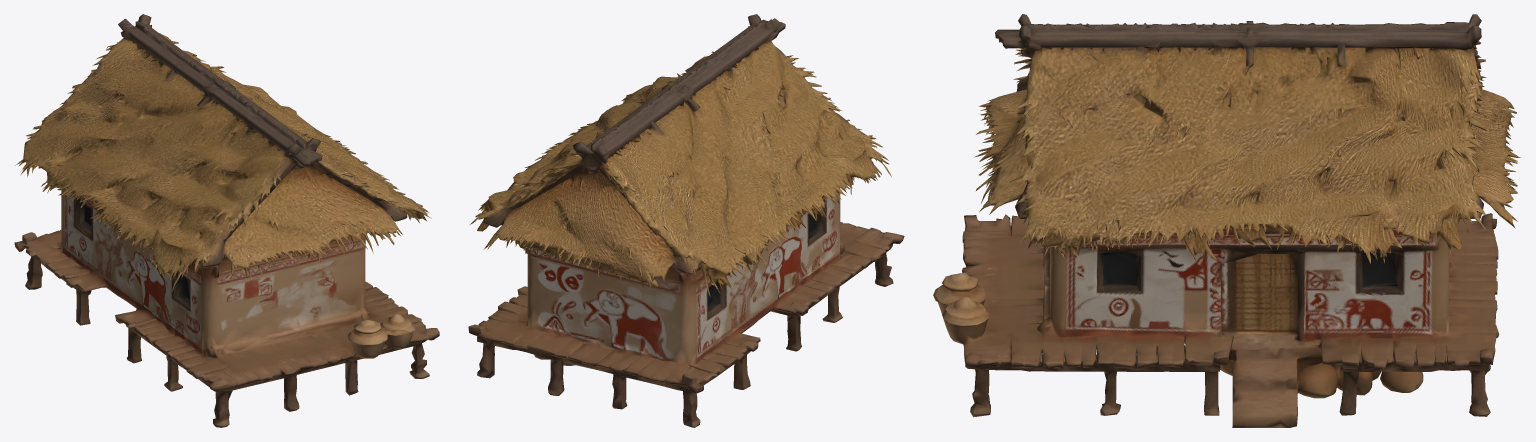
The model's file is tharu_house.glb.
3 renders of one model, left to right at view 1: azimuth 30°, elevation 25°; view 2: azimuth 150°, elevation 25°; view 3: azimuth 270°, elevation 25°, orthographic. The views are drawn at different scales.
Visible parts, largest first — view 1: tripo_node_f977dfb8-b639-40e6-8eda-6ae0d3593b82; view 2: tripo_node_f977dfb8-b639-40e6-8eda-6ae0d3593b82; view 3: tripo_node_f977dfb8-b639-40e6-8eda-6ae0d3593b82.
Boxes of the visible parts, left/top/right/bottom form: tripo_node_f977dfb8-b639-40e6-8eda-6ae0d3593b82: left=14, top=14, right=439, bottom=427; tripo_node_f977dfb8-b639-40e6-8eda-6ae0d3593b82: left=468, top=14, right=904, bottom=427; tripo_node_f977dfb8-b639-40e6-8eda-6ae0d3593b82: left=933, top=14, right=1520, bottom=427.
Size of the model in its own units: 2.78 by 2.5 by 4.01.
1 material, 1 textured.
